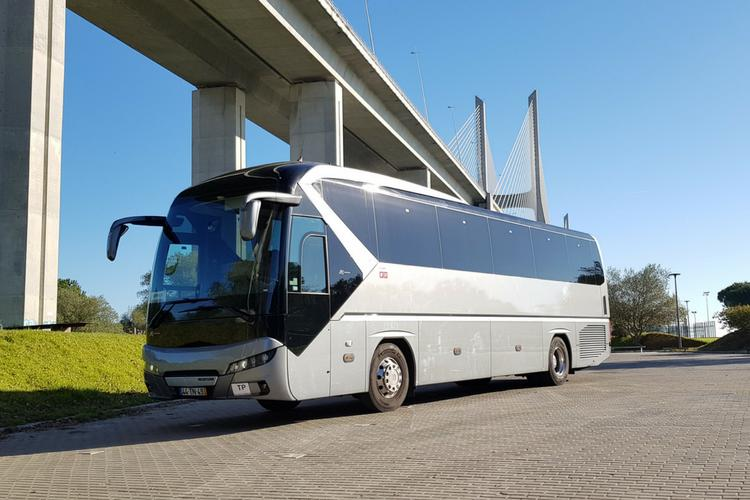vehicle: (108, 161, 611, 411)
